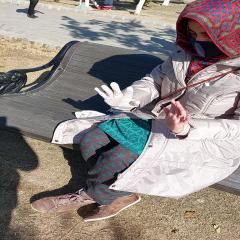gloved: (90, 83, 138, 109)
not-gloved: (162, 102, 192, 138)
